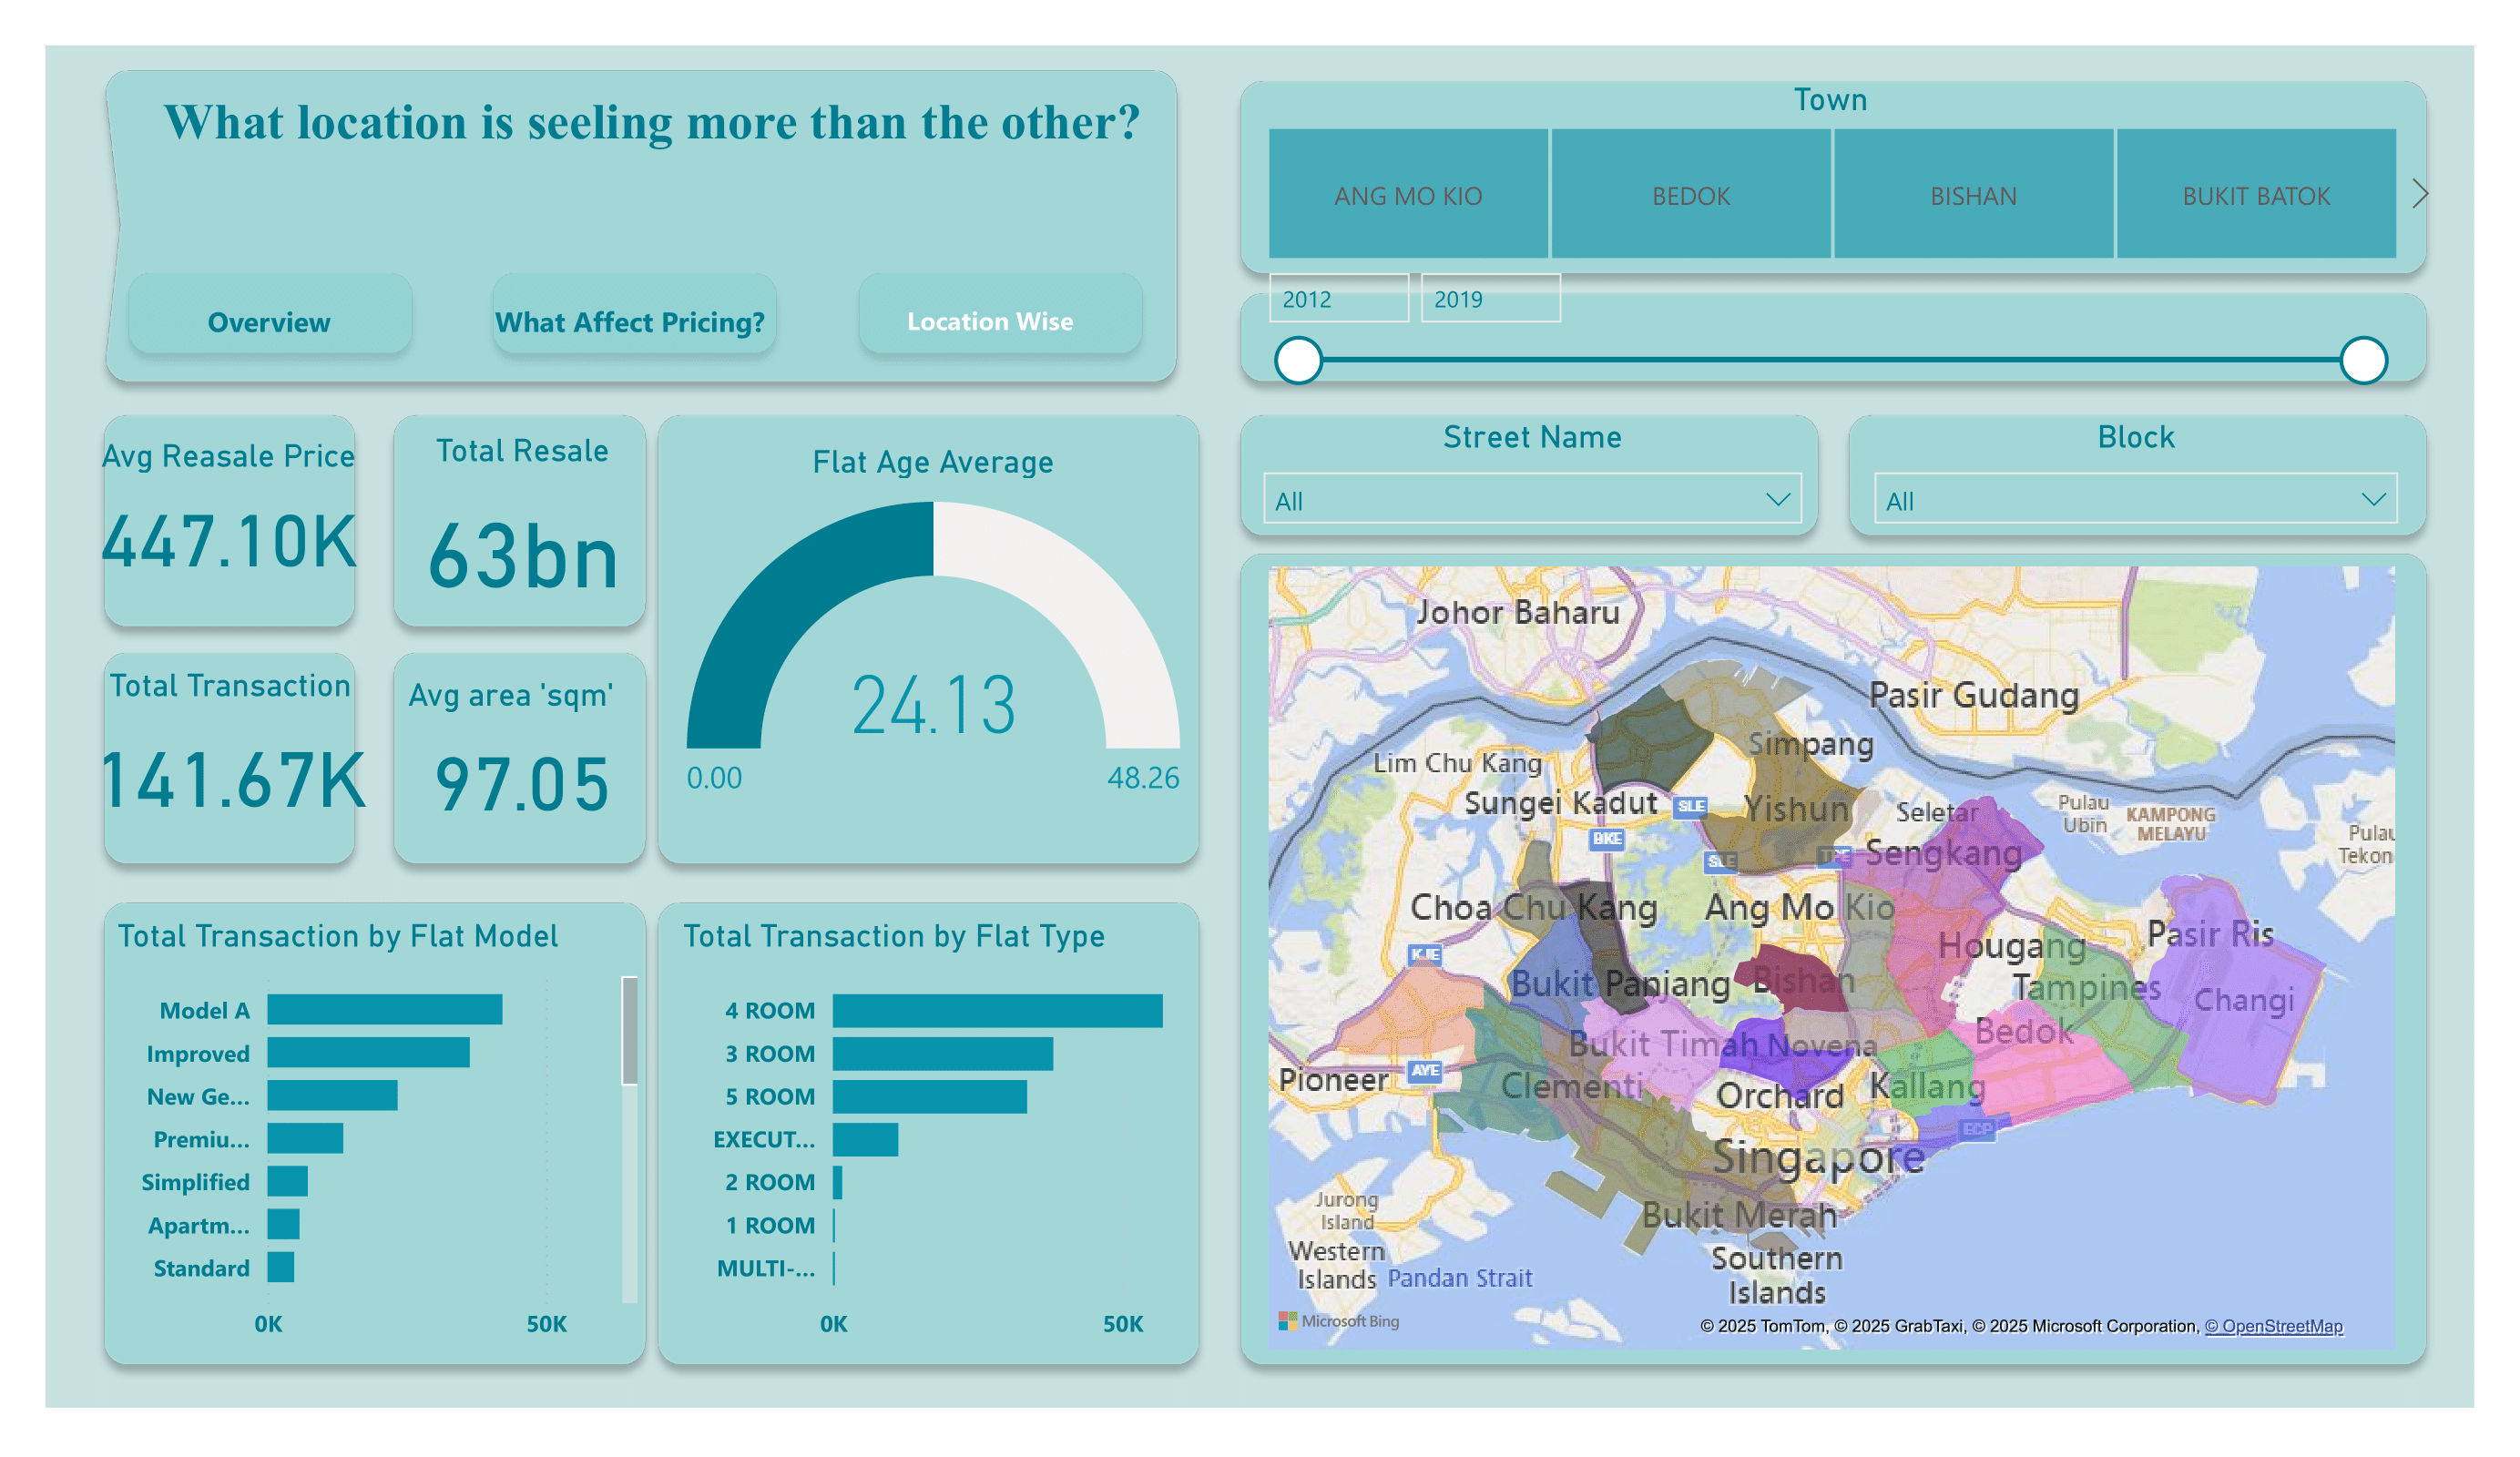

What the dashboard file says about the page in this screenshot:
{"tool":"powerbi","page":{"name":"Location Wise","canvas":[1280,720],"ordinal":2},"visuals":[{"type":"filledMap","fields":{"Category":["hdb_resale_flats.town"],"Series":["hdb_resale_flats.street_name"],"Y":["Avg(hdb_resale_flats.street_lat)"],"X":["Avg(hdb_resale_flats.street_lon)"]},"box":[640,270.4,603,421.2],"z":0},{"type":"barChart","title":"Total Transaction by Flat Type","fields":{"Category":["hdb_resale_flats.flat_type"],"Y":["CountNonNull(hdb_resale_flats.resale_price)"]},"box":[330.7,459.1,283,232.5],"z":1000},{"type":"card","title":"Total Transaction","fields":{"Values":["CountNonNull(hdb_resale_flats.resale_price)"]},"box":[18,327,159,92],"z":2000},{"type":"card","title":"Avg Reasale Price","fields":{"Values":["Avg(hdb_resale_flats.resale_price)"]},"box":[23.3,206.2,146.9,82.7],"z":3000},{"type":"slicer","title":"Town","fields":{"Values":["hdb_resale_flats.town"]},"box":[618.6,17.5,644.9,101.2],"z":4000},{"type":"slicer","title":"Street Name","fields":{"Values":["hdb_resale_flats.street_name"]},"box":[632.2,195.5,303.5,58.4],"z":5000},{"type":"slicer","fields":{"Values":["hdb_resale_flats.Year-of-resale"]},"box":[632.2,109.9,610.8,72.9],"z":6000},{"type":"card","title":"Total Resale ","fields":{"Values":["Sum(hdb_resale_flats.resale_price)"]},"box":[178,203.3,146.9,101.2],"z":7000},{"type":"card","title":"Avg area ''sqm''","fields":{"Values":["Avg(hdb_resale_flats.floor_area_sqm)"]},"box":[185.8,331.7,131.3,87.5],"z":8000},{"type":"clusteredBarChart","title":"Total Transaction by Flat Model","fields":{"Y":["CountNonNull(hdb_resale_flats.resale_price)"],"Category":["hdb_resale_flats.flat_model"]},"box":[28,459,297,233],"z":9000},{"type":"slicer","title":"Block","fields":{"Values":["hdb_resale_flats.block"]},"box":[954.2,195.5,295.7,62.2],"z":10000},{"type":"gauge","title":"Flat Age Average","fields":{"Y":["Avg(hdb_resale_flats.flat age)"]},"box":[332.6,209.1,270.4,205.2],"z":11000},{"type":"textbox","box":[36,17.5,561.2,55.4],"z":12000},{"type":"pageNavigator","box":[28.2,118.7,562.2,51.6],"z":13000}]}

Visuals, with their boxes on the page's 1280x720 design canvas (x1, y1, x2, y2). These are canvas units, not pixel positions in the 2520x1457 screenshot, which may show the page scaled, cropped or inside an application window:
filledMap - hdb_resale_flats.town x hdb_resale_flats.street_name: detection(640, 270, 1243, 692)
"Total Transaction by Flat Type" barChart: detection(331, 459, 614, 692)
"Total Transaction" card: detection(18, 327, 177, 419)
"Avg Reasale Price" card: detection(23, 206, 170, 289)
"Town" slicer: detection(619, 18, 1264, 119)
"Street Name" slicer: detection(632, 196, 936, 254)
slicer - hdb_resale_flats.Year-of-resale: detection(632, 110, 1243, 183)
"Total Resale " card: detection(178, 203, 325, 304)
"Avg area ''sqm''" card: detection(186, 332, 317, 419)
"Total Transaction by Flat Model" clusteredBarChart: detection(28, 459, 325, 692)
"Block" slicer: detection(954, 196, 1250, 258)
"Flat Age Average" gauge: detection(333, 209, 603, 414)
textbox: detection(36, 18, 597, 73)
pageNavigator: detection(28, 119, 590, 170)
